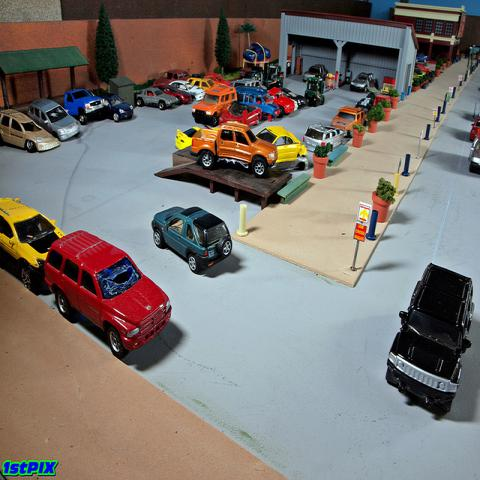car: (62, 40, 480, 153), (386, 262, 476, 414), (0, 194, 68, 295), (151, 206, 233, 276), (0, 108, 60, 153), (27, 98, 80, 142), (255, 125, 308, 168), (220, 101, 262, 127), (100, 94, 134, 123), (134, 88, 178, 110), (152, 84, 192, 105), (469, 137, 479, 174)
truck: (42, 228, 174, 358), (192, 121, 277, 177), (264, 61, 284, 89)
